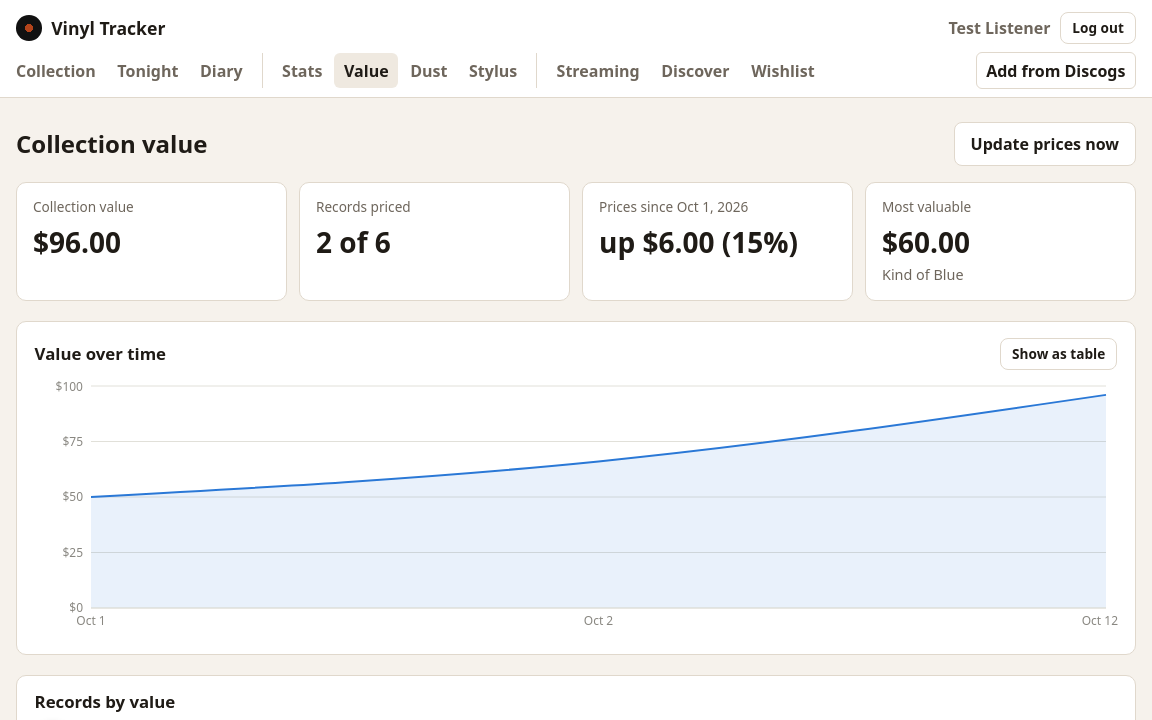
Test: ValuePage › shows the history as a chart, or as a table
The width and height of the screenshot is (1152, 720).
Click the button "Show as table".
click(1059, 354)  # box [1000, 338, 1117, 370]
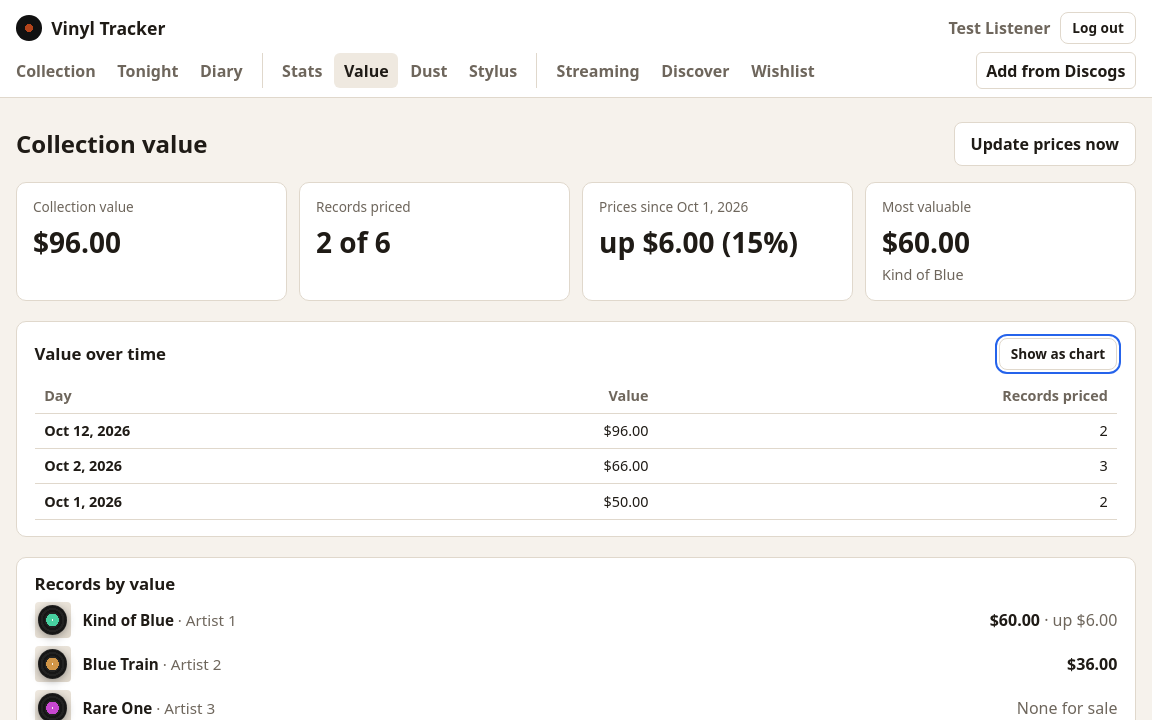
Result: the number of rows is 4 at [35, 378, 1117, 413]; [35, 414, 1117, 449]; [35, 449, 1117, 484]; [35, 484, 1117, 519]
